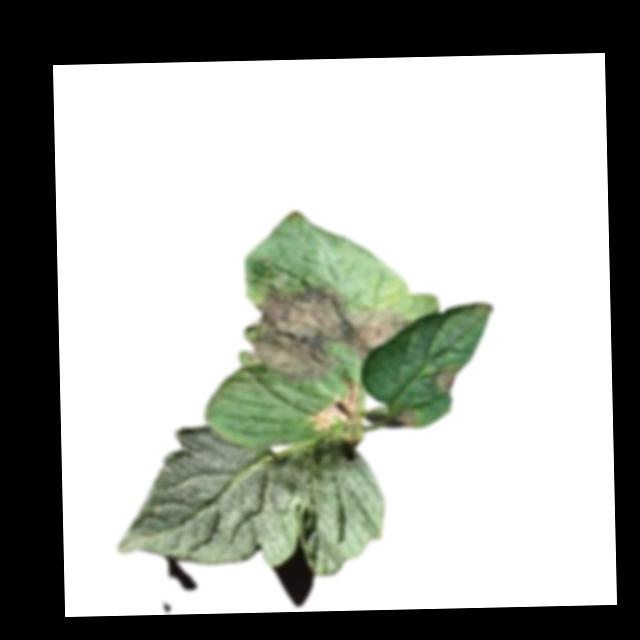Late_blight: (234, 280, 415, 382), (307, 377, 362, 432), (430, 361, 463, 394), (392, 407, 418, 427)
